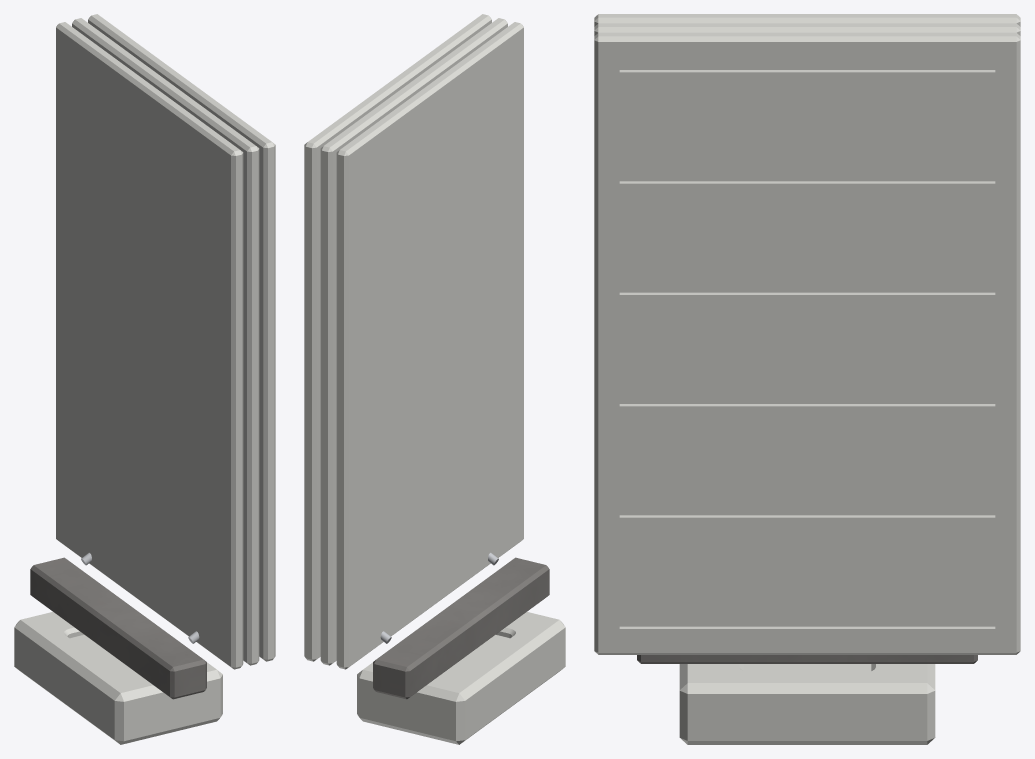
The model's file is ax_power_05_deployable_radiator_m.glb.
The picture shows the model from 3 angles, left to right: view 1: azimuth 30°, elevation 25°; view 2: azimuth 150°, elevation 25°; view 3: azimuth 270°, elevation 25°; orthographic projection. The views are drawn at different scales.
Parts seen in each view (by area): view 1: panel_1, mount_block, panel_3, panel_2, hinge_base; view 2: panel_1, mount_block, panel_3, panel_2, hinge_base; view 3: panel_3, mount_block, panel_1, panel_2, hinge_base.
Part boxes in pixels (box(x1,y1,x2,y2)): panel_1: box(56, 22, 243, 669); mount_block: box(14, 612, 222, 744); panel_3: box(88, 14, 275, 661); panel_2: box(72, 18, 259, 665); hinge_base: box(30, 557, 206, 699); panel_1: box(336, 22, 523, 669); mount_block: box(357, 612, 565, 744); panel_3: box(304, 14, 491, 661); panel_2: box(320, 18, 507, 665); hinge_base: box(373, 557, 549, 699); panel_3: box(594, 32, 1020, 654); mount_block: box(679, 664, 935, 744); panel_1: box(594, 14, 1020, 26); panel_2: box(594, 23, 1020, 35); hinge_base: box(637, 655, 977, 663).
Bounding box in the file's own units: 0.399 × 1.86 × 1.
Materials: 3 (2 with a texture image).
